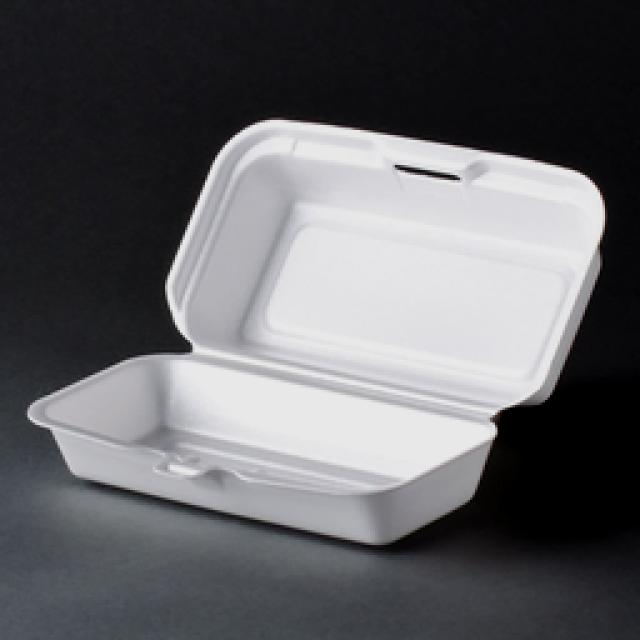inorganic: (43, 138, 570, 536)
